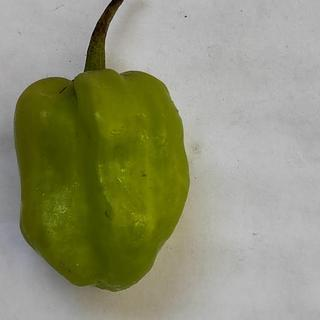Grade-A: (10, 64, 193, 293)
